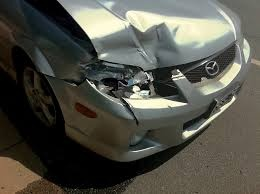Broken-glass: (86, 61, 151, 98)
Dent: (89, 23, 179, 69)
